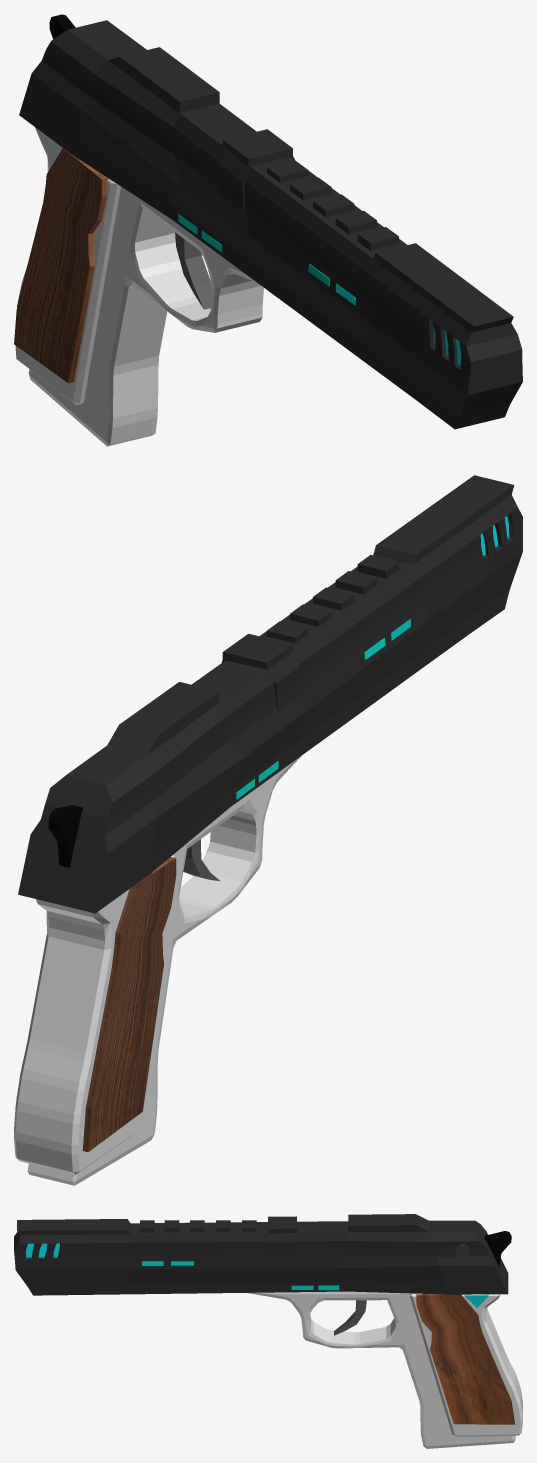
The model's file is Pistol.fbx.
3 renders of one model, top to bottom at view 1: azimuth 30°, elevation 25°; view 2: azimuth 150°, elevation 25°; view 3: azimuth 270°, elevation 25°, orthographic. The views are drawn at different scales.
Parts seen in each view (by area): view 1: Cube.002, Cube, Cube.004, Cube.001, Cube.005, Cube.008, Cube.009; view 2: Cube.002, Cube.001, Cube.004, Cube, Cube.005, Cube.003; view 3: Cube.002, Cube.004, Cube, Cube.001, Cube.005, Cube.003, Cube.009, Cube.008.
Boxes of the visible parts, box(x1,y1,x2,y2) form: Cube.002: box(19, 20, 522, 429); Cube: box(28, 186, 263, 446); Cube.004: box(14, 148, 108, 383); Cube.001: box(15, 127, 120, 405); Cube.005: box(267, 160, 398, 250); Cube.008: box(175, 232, 211, 309); Cube.009: box(178, 214, 355, 305); Cube.002: box(18, 475, 522, 913); Cube.001: box(14, 855, 174, 1174); Cube.004: box(82, 857, 176, 1152); Cube: box(27, 756, 301, 1185); Cube.005: box(266, 554, 398, 643); Cube.003: box(48, 805, 82, 867); Cube.002: box(14, 1214, 508, 1295); Cube.004: box(416, 1294, 515, 1424); Cube: box(248, 1291, 515, 1448); Cube.001: box(409, 1293, 522, 1436); Cube.005: box(140, 1220, 256, 1232); Cube.003: box(484, 1231, 511, 1266); Cube.009: box(142, 1261, 339, 1290); Cube.008: box(334, 1300, 366, 1335).
Bounding box in the file's own units: 48.56 × 238 × 492.
